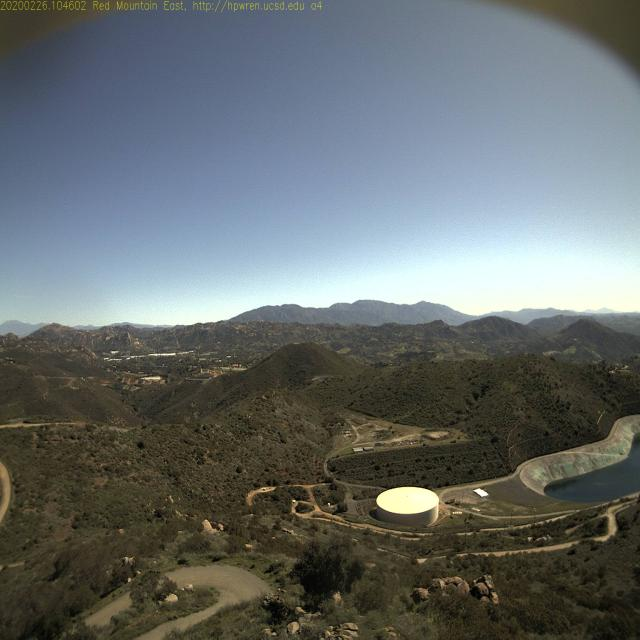smoke: (198, 325, 219, 339)
